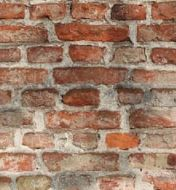brick: (45, 111, 123, 130), (56, 22, 129, 41), (53, 66, 126, 84), (1, 24, 49, 44), (130, 109, 174, 129), (135, 23, 176, 43), (68, 45, 104, 64), (29, 3, 65, 21), (63, 87, 99, 105), (1, 68, 47, 82), (133, 69, 174, 83), (1, 155, 34, 172), (23, 89, 57, 105), (27, 47, 63, 62), (112, 3, 145, 19), (106, 131, 138, 147), (73, 4, 107, 19), (113, 47, 144, 63), (1, 110, 34, 125), (25, 133, 54, 149), (149, 47, 176, 64), (150, 2, 176, 19), (72, 134, 98, 150), (1, 2, 25, 19), (118, 89, 144, 103), (1, 48, 22, 61), (1, 131, 13, 145)
